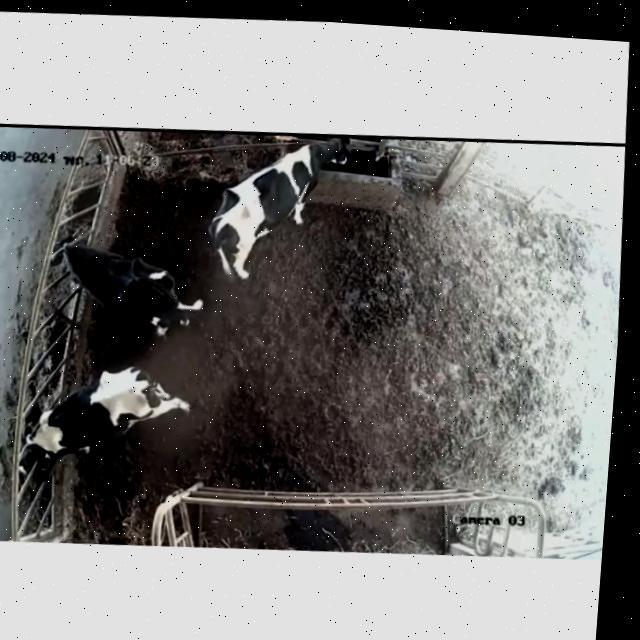drink: (279, 133, 366, 186)
eat: (18, 217, 108, 287), (0, 407, 79, 486)
